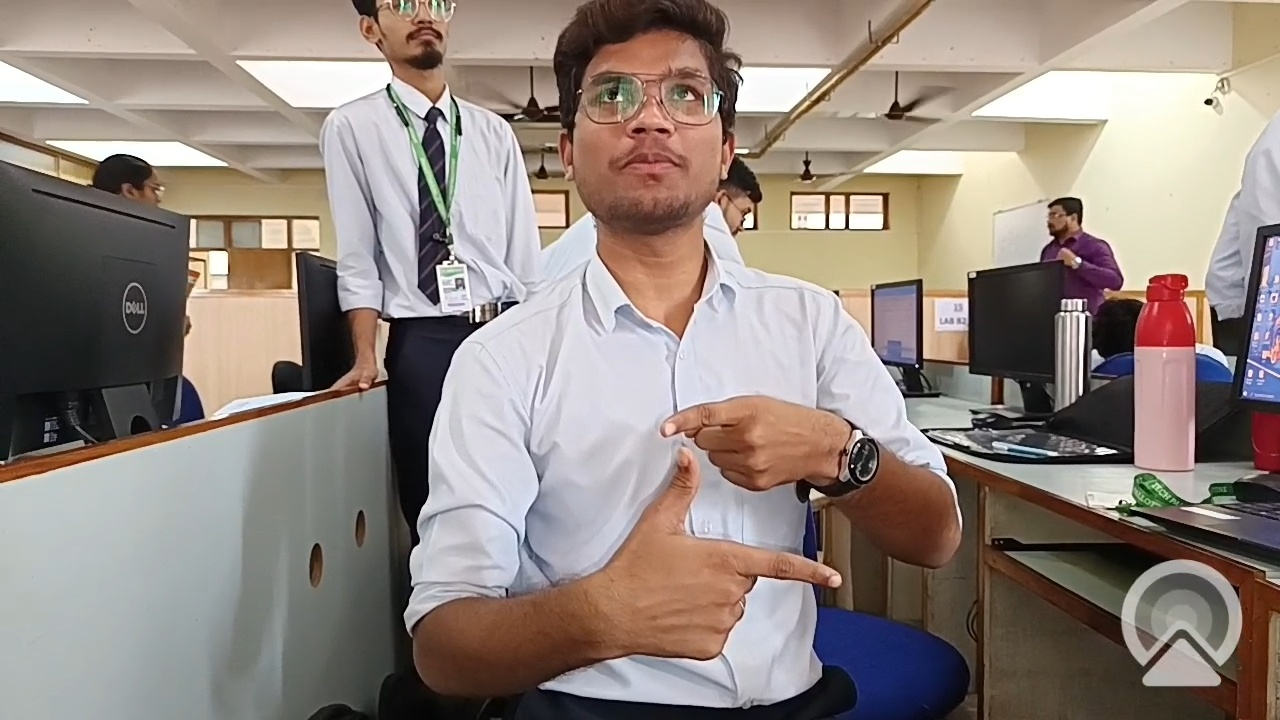J: (569, 383, 876, 695)
